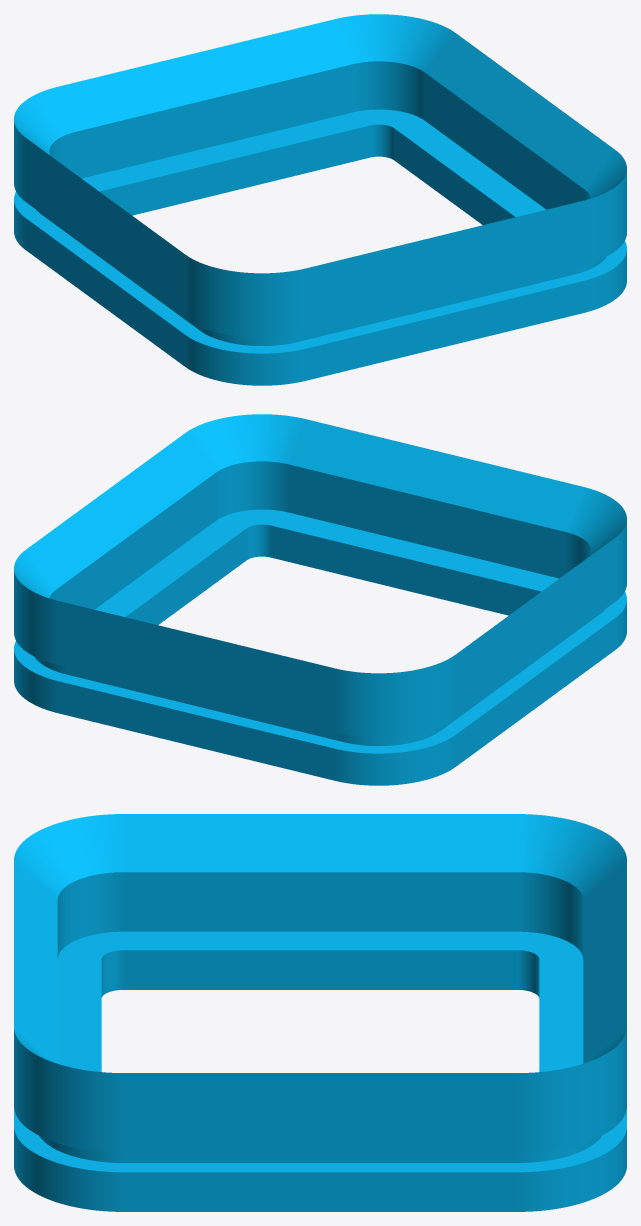
The model's file is sweep-cerceve.gltf.
3 views of the same model, one above another, from view 1: azimuth 30°, elevation 25°; view 2: azimuth 150°, elevation 25°; view 3: azimuth 270°, elevation 25° (orthographic). The views are drawn at different scales.
Parts seen in each view (by area): view 1: Gövde; view 2: Gövde; view 3: Gövde.
Boxes of the visible parts, x1=… form: Gövde: x1=14, y1=14, x2=626, y2=385; Gövde: x1=14, y1=414, x2=626, y2=785; Gövde: x1=14, y1=814, x2=626, y2=1211.
Size of the model in its own units: 0.14 by 0.035 by 0.14.
